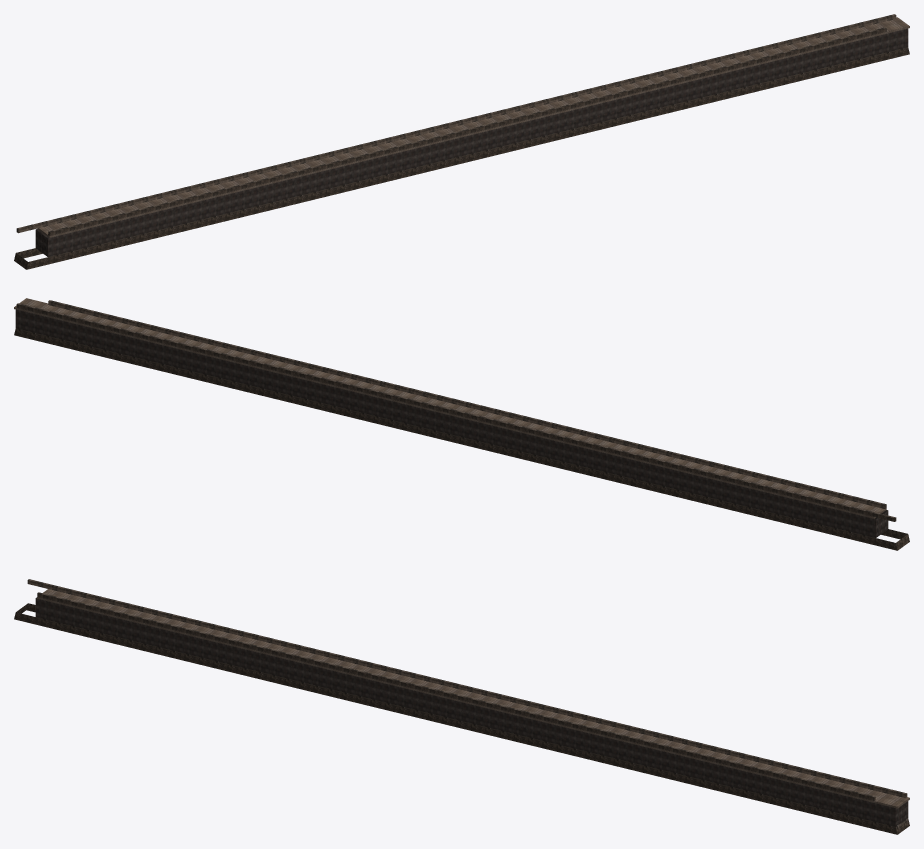
Rendered from components_city_wallse.glb.
The picture shows the model from 3 angles, top to bottom: view 1: azimuth 30°, elevation 25°; view 2: azimuth 150°, elevation 25°; view 3: azimuth 330°, elevation 25°; orthographic projection.
Parts seen in each view (by area): view 1: city_wallse; view 2: city_wallse; view 3: city_wallse.
Part boxes in pixels (x1=…): city_wallse: x1=14, y1=14, x2=909, y2=269; city_wallse: x1=14, y1=298, x2=909, y2=550; city_wallse: x1=14, y1=579, x2=909, y2=834.
Size of the model in its own units: 494 by 17 by 12.
3 materials, 3 textured.
